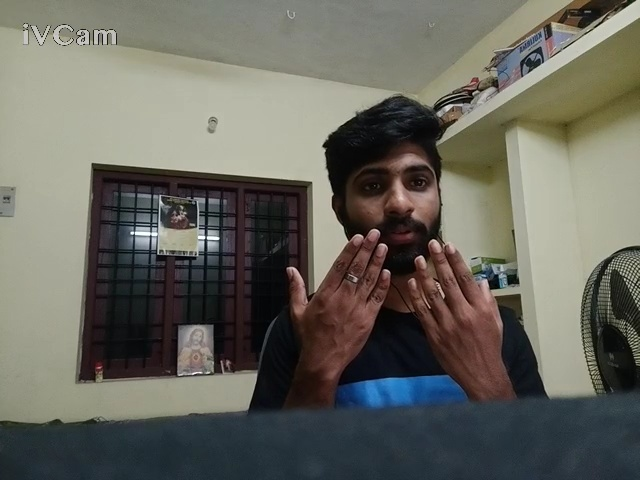Thank You: (261, 215, 523, 478)
